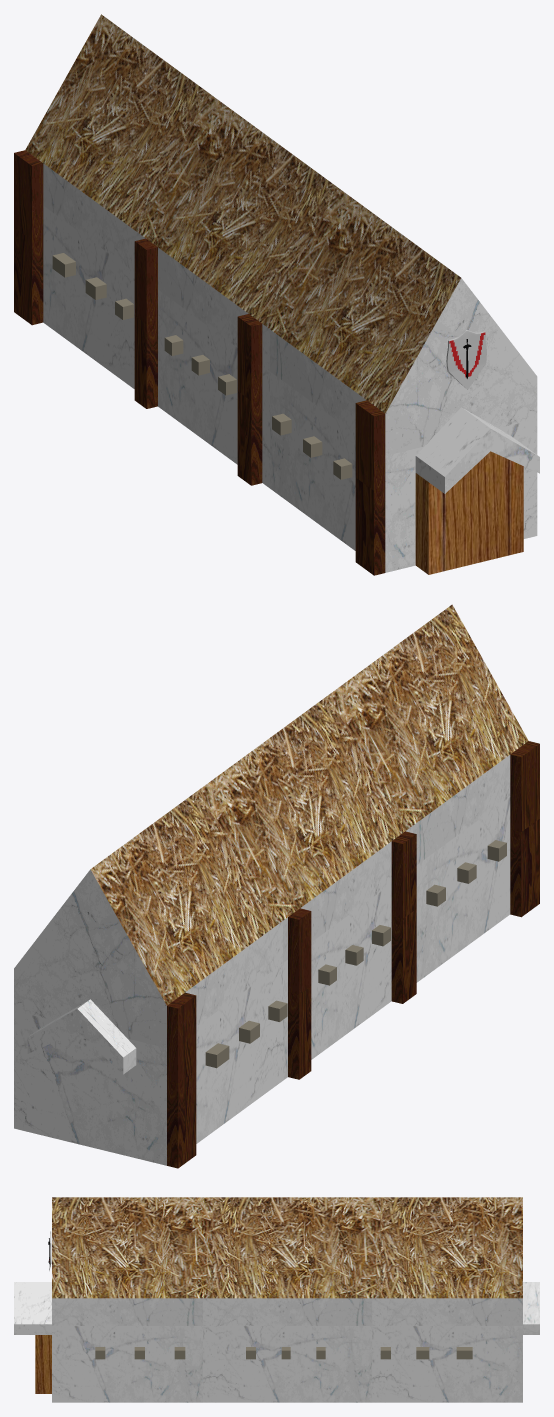
File: egyptian_academy_final.fbx
3 views of the same model, one above another, from view 1: azimuth 30°, elevation 25°; view 2: azimuth 150°, elevation 25°; view 3: azimuth 270°, elevation 25° (orthographic). The views are drawn at different scales.
Visible parts, largest first — view 1: house; view 2: house; view 3: house.
Boxes of the visible parts, <box> form: house: <box>14,14,539,575</box>; house: <box>14,604,539,1168</box>; house: <box>14,1197,539,1402</box>.
Bounding box in the file's own units: 156 × 236 × 621.
Materials: 8 (4 with a texture image).
